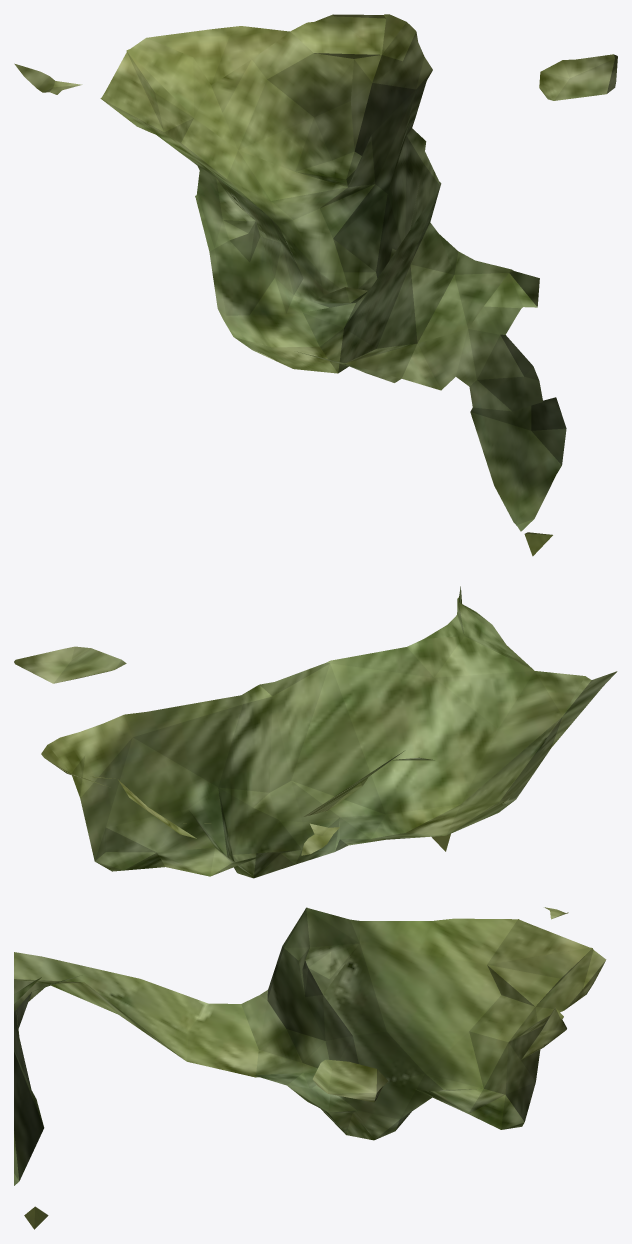
3 views of the same model, one above another, from view 1: azimuth 30°, elevation 25°; view 2: azimuth 150°, elevation 25°; view 3: azimuth 270°, elevation 25° (orthographic). The views are drawn at different scales.
Bounding box in the file's own units: 3.33 × 2 × 4.41.
Materials: 1 (1 with a texture image).
